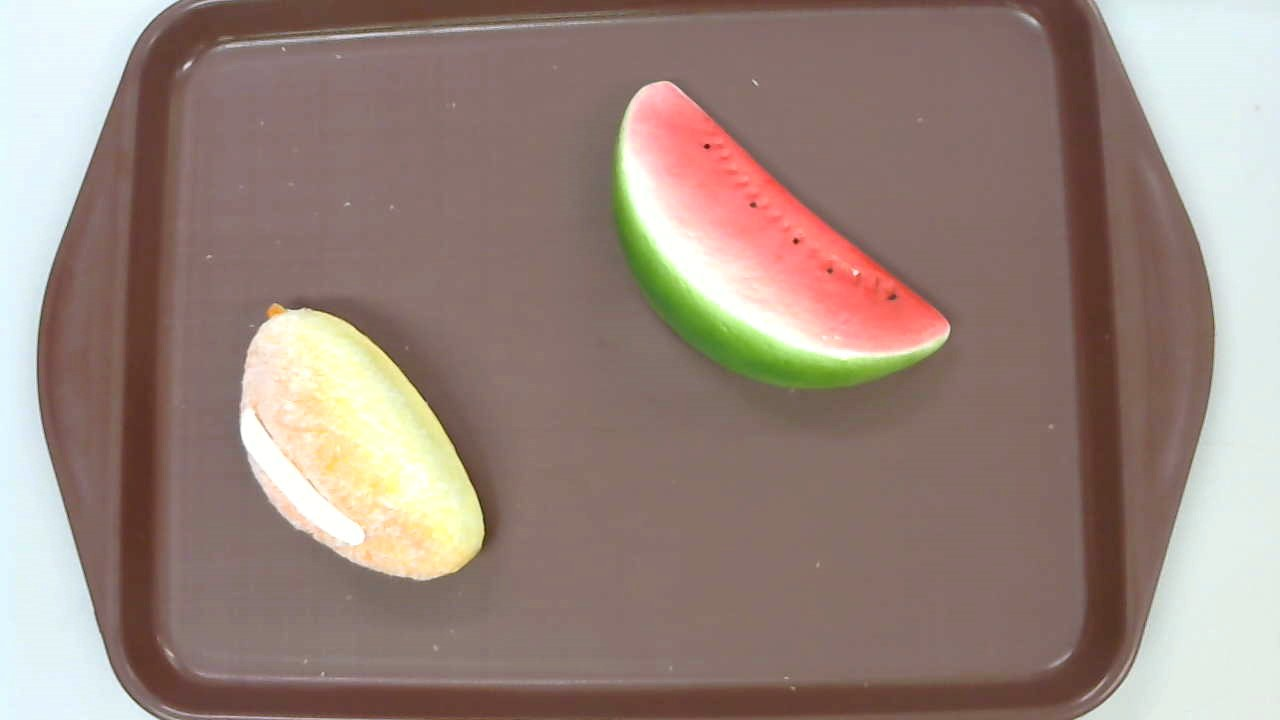coconut: (238, 301, 485, 580)
water melon: (611, 81, 951, 389)
